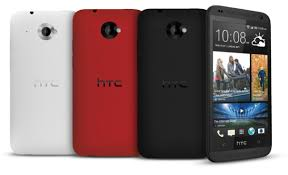htc: (201, 2, 275, 162), (135, 7, 207, 160), (7, 7, 74, 157), (70, 8, 137, 158)
